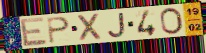4: (136, 8, 157, 37)
E: (19, 16, 49, 48)
J: (107, 11, 128, 39)
O: (159, 7, 185, 36)
P: (46, 16, 71, 45)
X: (76, 12, 104, 43)
